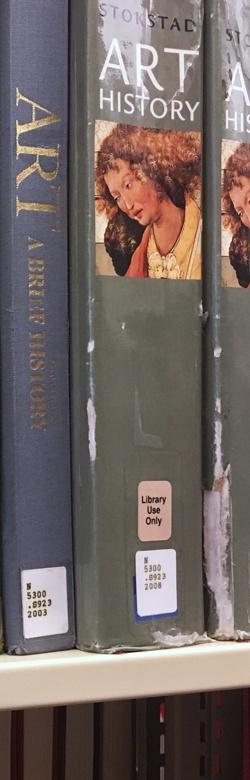call_number: (17, 569, 70, 632), (133, 549, 179, 613)
